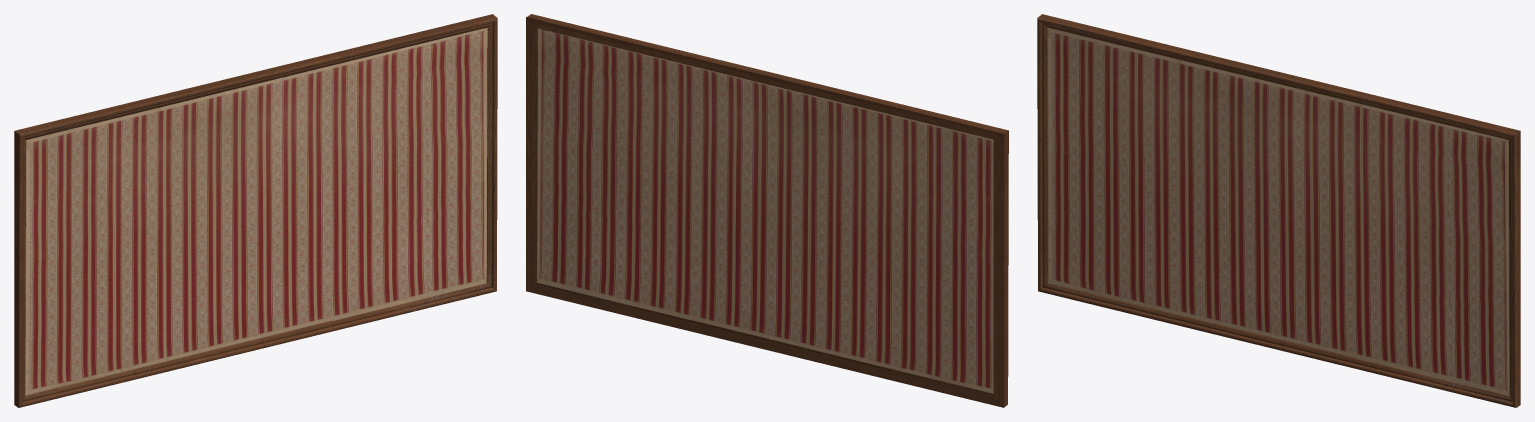
File: modular_wall_05 (1).glb
The picture shows the model from 3 angles, left to right: view 1: azimuth 30°, elevation 25°; view 2: azimuth 150°, elevation 25°; view 3: azimuth 330°, elevation 25°; orthographic projection.
Parts seen in each view (by area): view 1: Aset_interior_wall_M_wboweczdw_LOD0; view 2: Aset_interior_wall_M_wboweczdw_LOD0; view 3: Aset_interior_wall_M_wboweczdw_LOD0.
Part boxes in pixels (left/top/right/bottom): Aset_interior_wall_M_wboweczdw_LOD0: left=14, top=14, right=497, bottom=407; Aset_interior_wall_M_wboweczdw_LOD0: left=526, top=14, right=1008, bottom=407; Aset_interior_wall_M_wboweczdw_LOD0: left=1037, top=14, right=1520, bottom=407.
Bounding box in the file's own units: 1.9 × 1.04 × 0.0362.
1 material, 1 textured.
